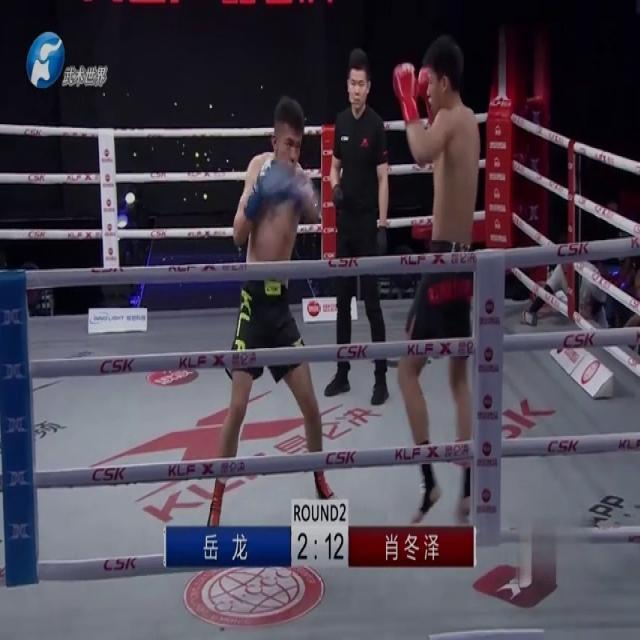fight: (202, 48, 479, 528)
non-fight: (326, 42, 393, 406)
